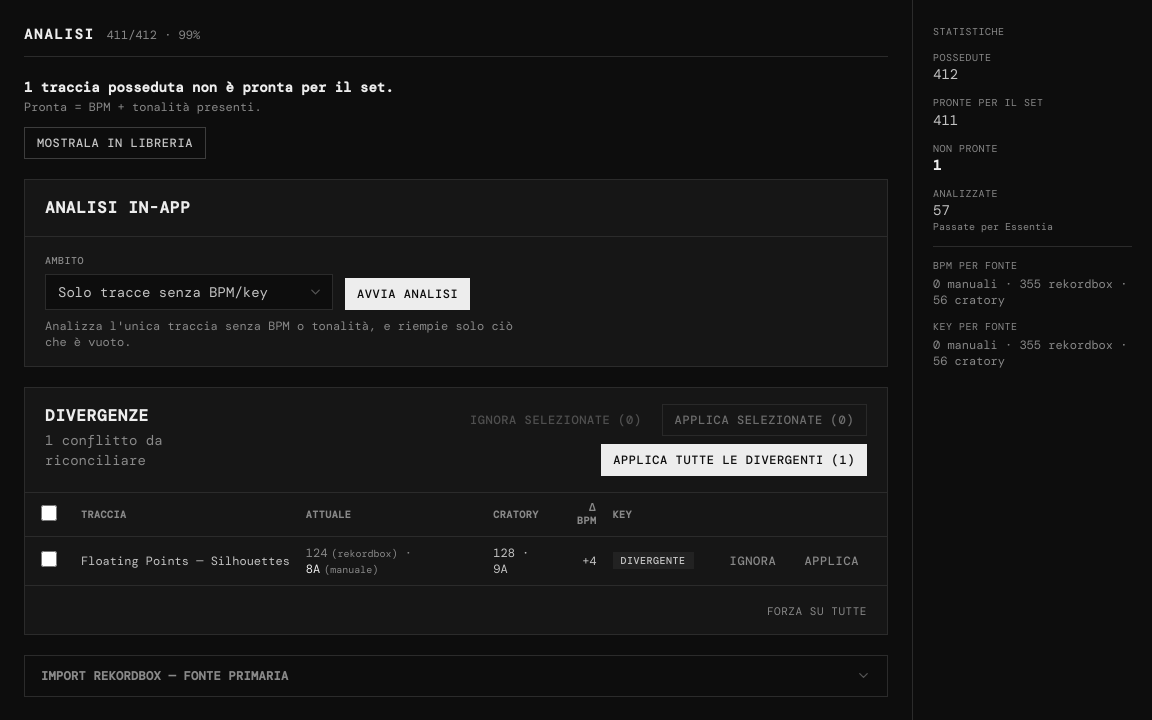
Test: pagina Analisi › chiede conferma prima di calpestare una correzione manuale
Step 1. Click the button "Applica tutte le divergenti (1)" → click(734, 460), box [601,444,867,476]
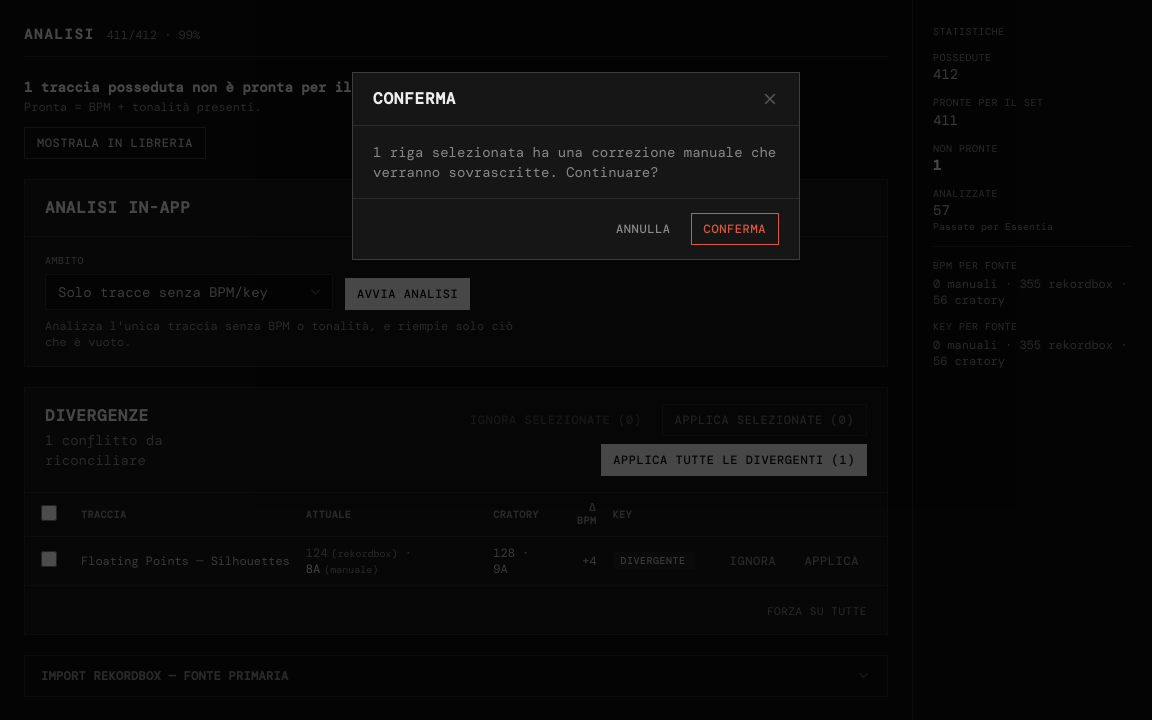
Expected: the dialog is shown, [352,72,800,260]
